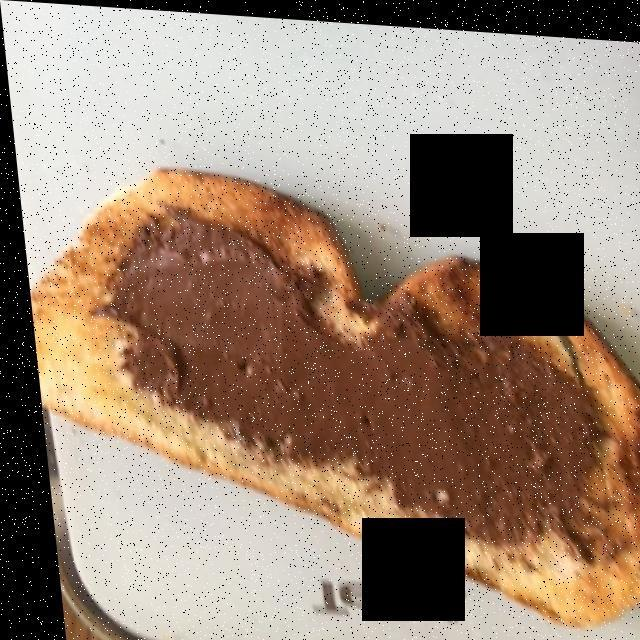bread: (40, 170, 640, 615)
nutella: (86, 208, 617, 536)
